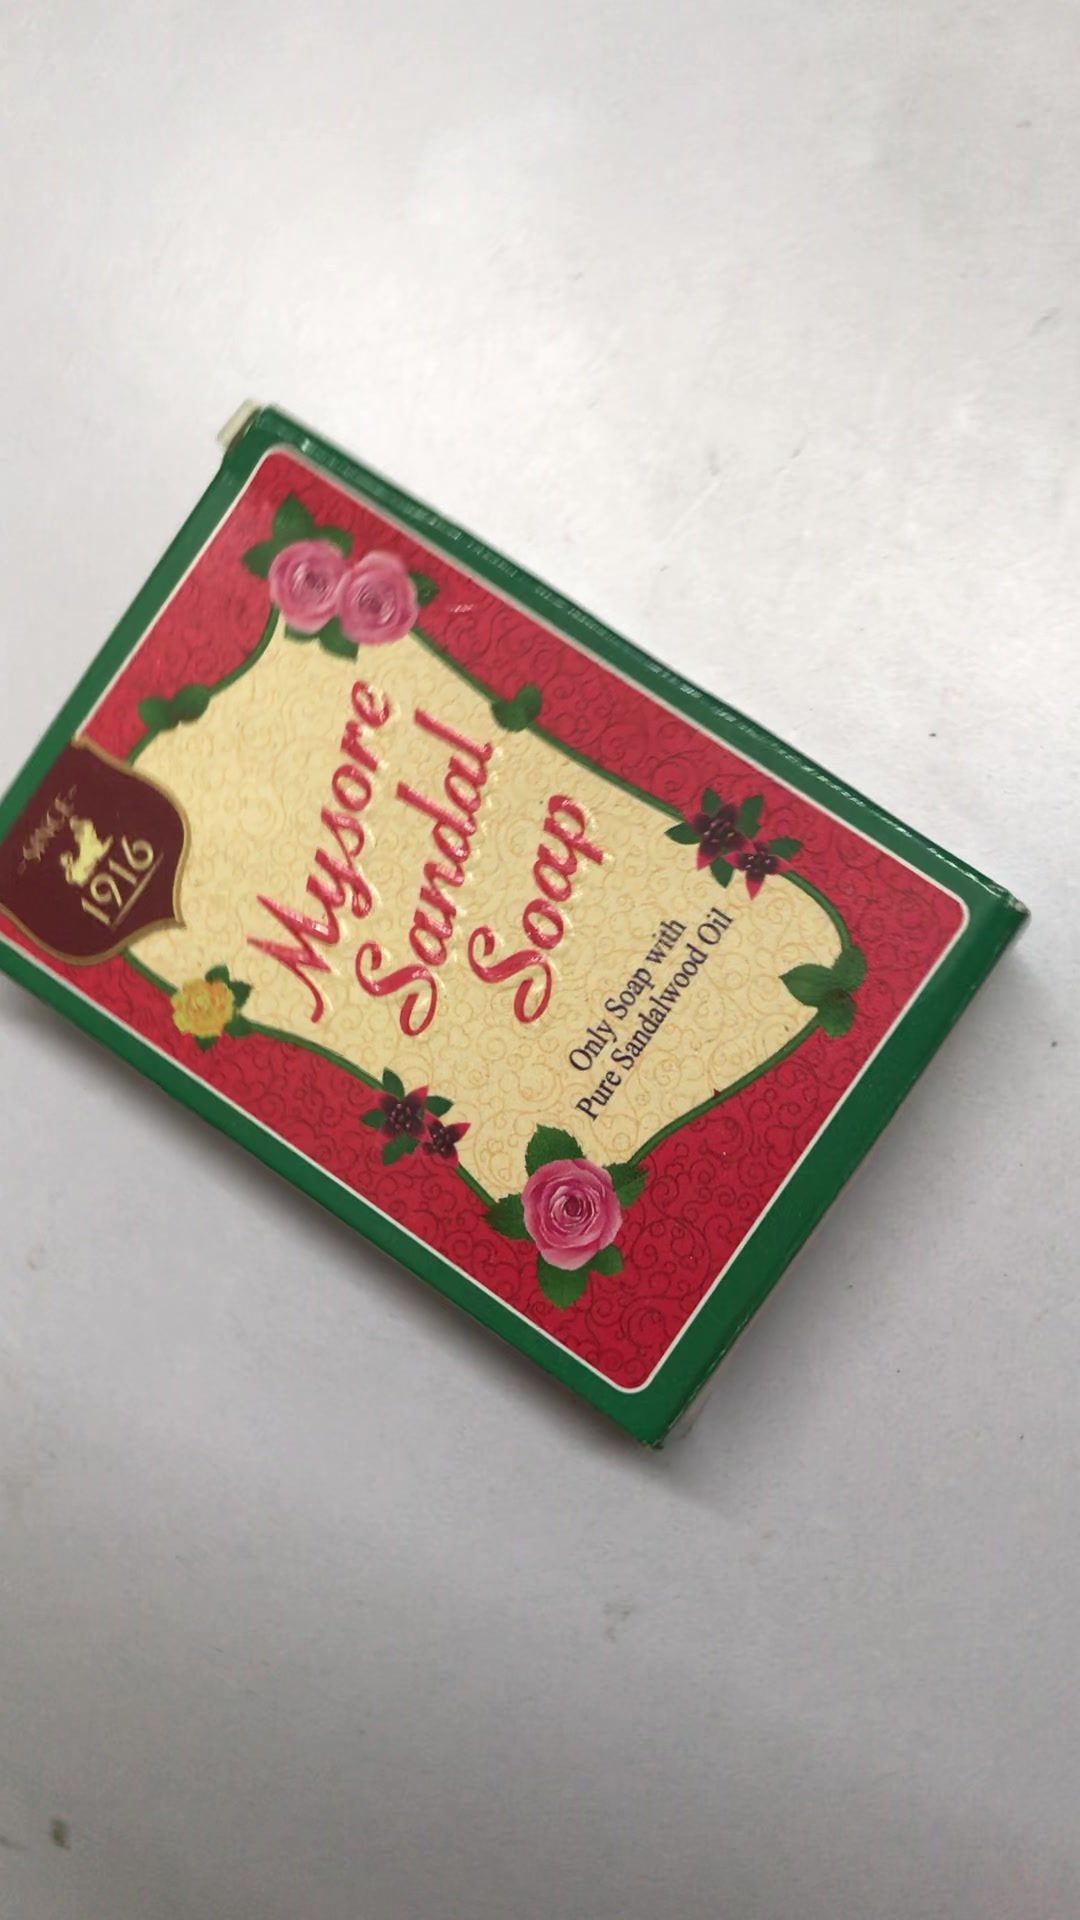mysore sandal soap: (5, 417, 1034, 1452)
